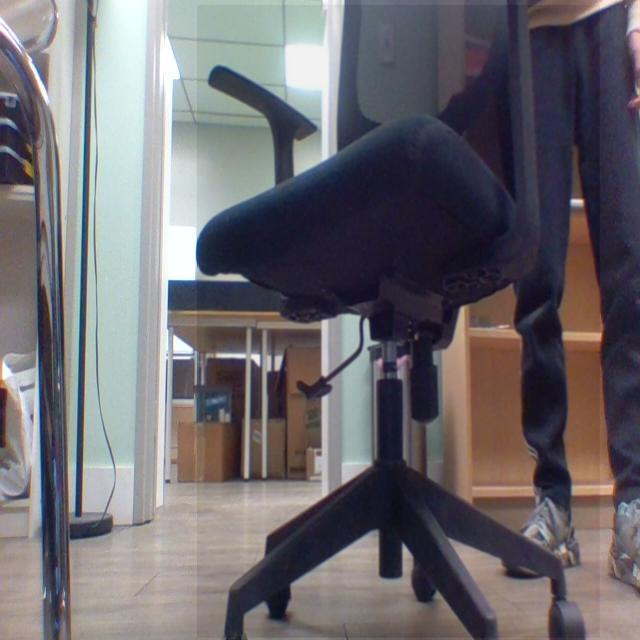chair: (197, 5, 601, 639)
